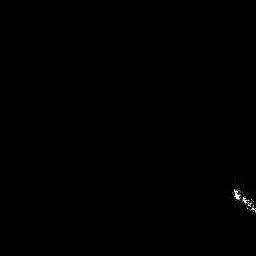ship: (229, 185, 255, 215)
